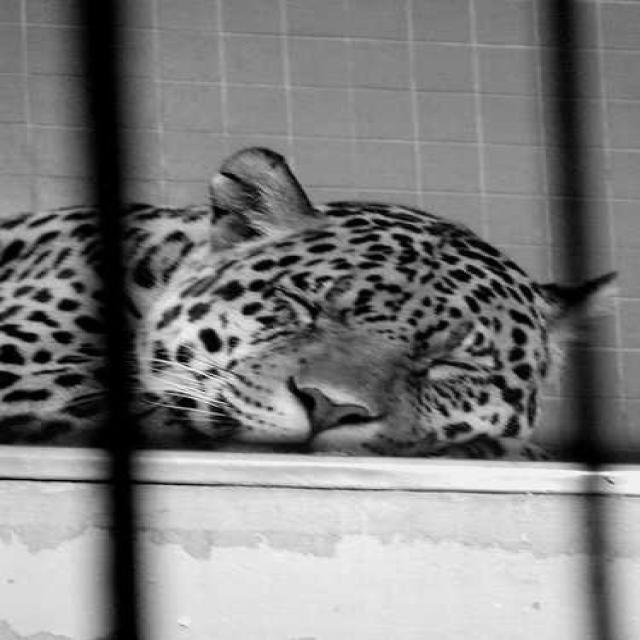Leopard: (0, 69, 640, 502)
